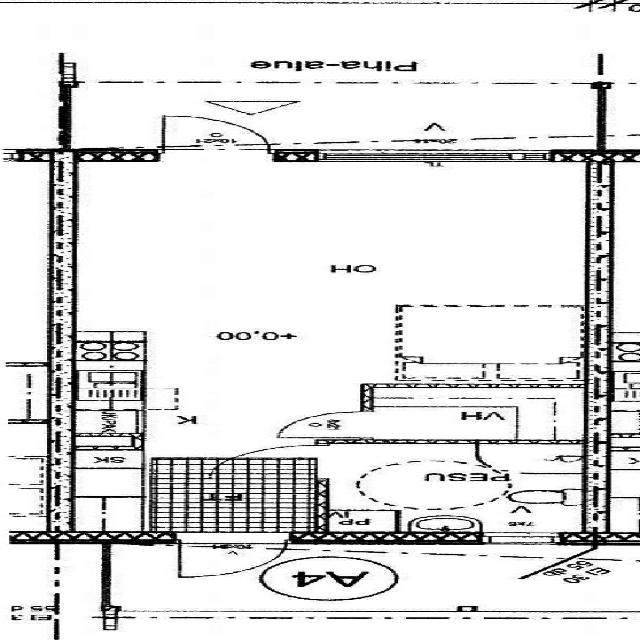door: (168, 539, 288, 579), (155, 110, 276, 149), (270, 409, 383, 441)
window: (476, 532, 569, 546)
zone: (64, 155, 594, 389), (328, 443, 594, 538), (360, 386, 592, 444), (149, 460, 324, 534)
